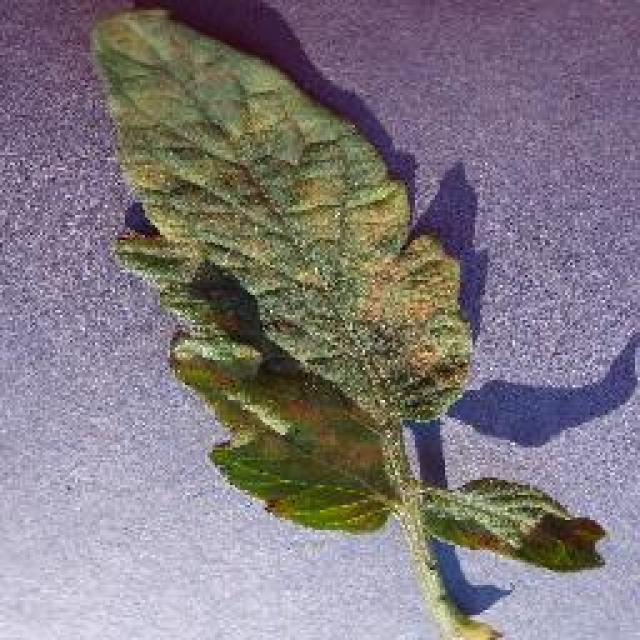Tomato mold leaf: (93, 5, 475, 530), (418, 479, 604, 581)
